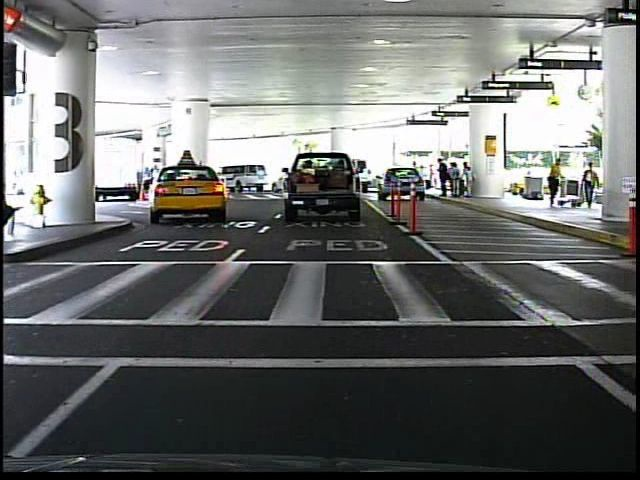person: (543, 154, 567, 211), (581, 159, 600, 212), (410, 159, 423, 192)
